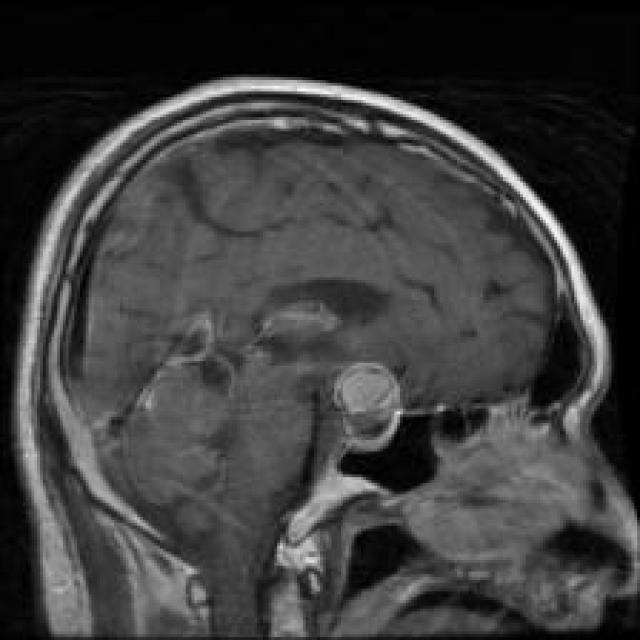pituitary_tumor: (326, 347, 424, 469)
